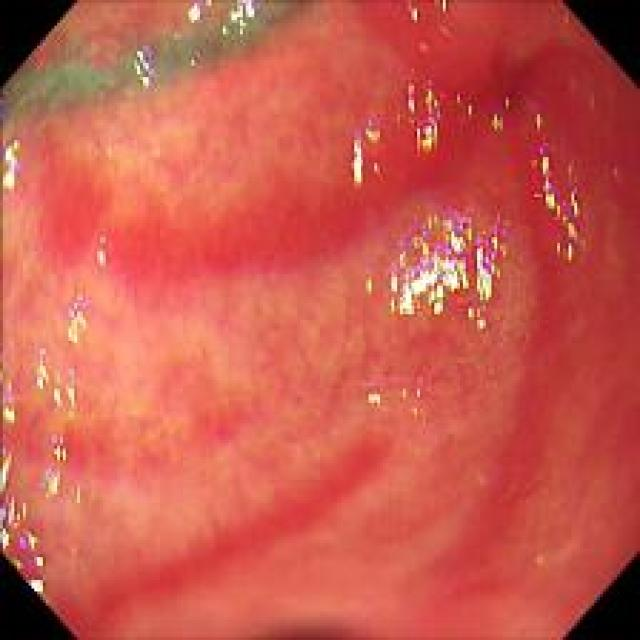blur: (119, 488, 568, 632)
color misalignment: (0, 370, 90, 591), (32, 299, 100, 580), (384, 211, 514, 326), (38, 36, 268, 81), (348, 84, 450, 182), (532, 114, 582, 262), (359, 365, 441, 422)
specularity: (364, 204, 520, 338), (318, 72, 452, 182), (528, 110, 588, 265), (179, 2, 266, 38), (118, 42, 165, 98), (2, 128, 28, 206), (86, 230, 120, 270)
